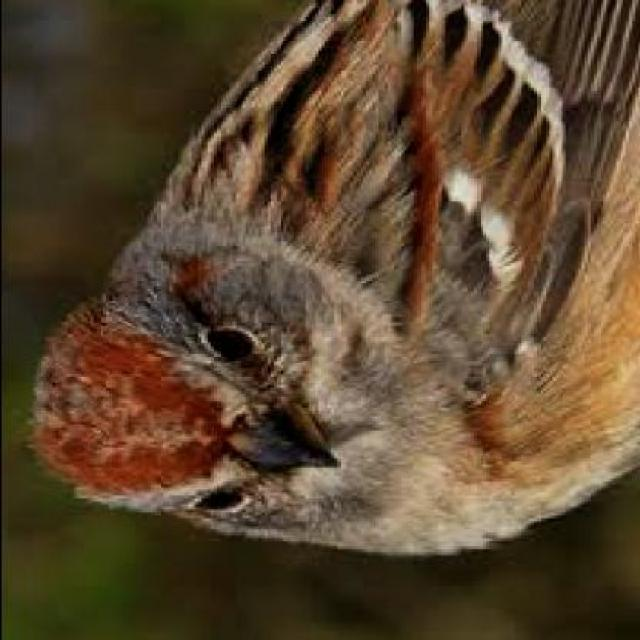Bird: (27, 2, 640, 547)
